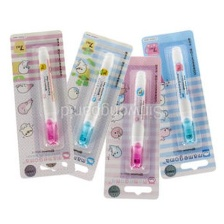book: (39, 30, 138, 183), (140, 28, 217, 181), (6, 28, 77, 181), (101, 54, 163, 204)
correction_fluid: (76, 50, 116, 152), (168, 44, 200, 146), (34, 43, 62, 148), (128, 67, 149, 171)
